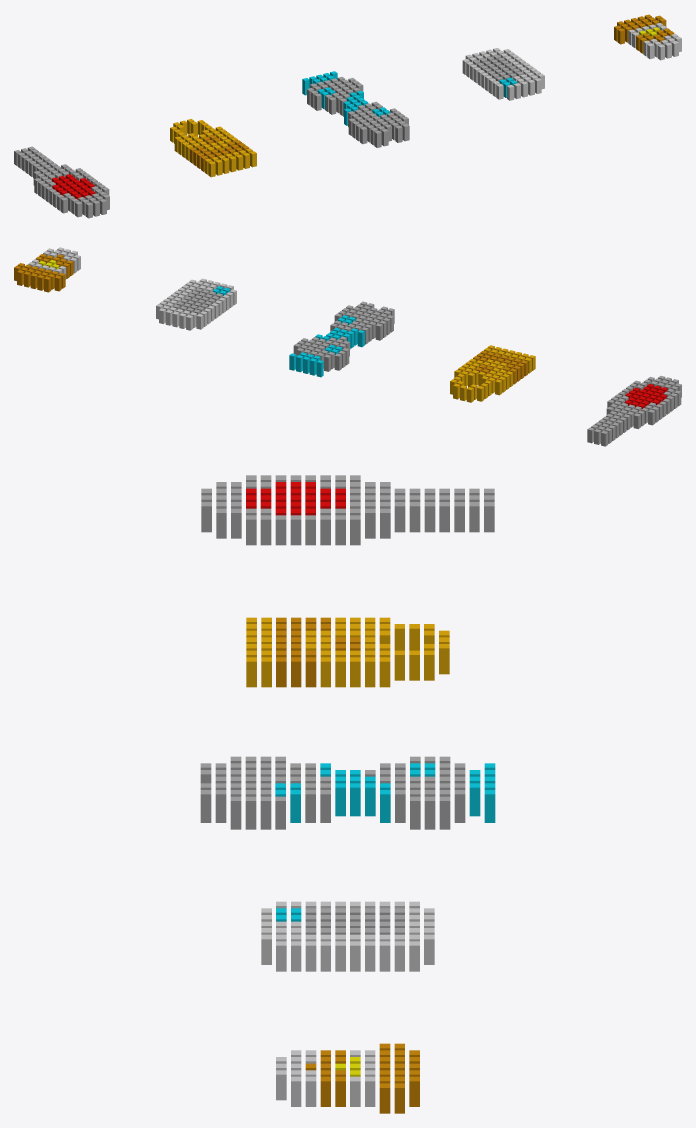
The model's file is RubbishMeshGroup.fbx.
3 renders of one model, top to bottom at view 1: azimuth 30°, elevation 25°; view 2: azimuth 150°, elevation 25°; view 3: azimuth 270°, elevation 25°, orthographic. The views are drawn at different scales.
Parts seen in each view (by area): view 1: WaterBottleMesh, GlassBottleMesh, PaperBagMesh, ContainerMesh, CoffeeCupMesh; view 2: WaterBottleMesh, GlassBottleMesh, PaperBagMesh, ContainerMesh, CoffeeCupMesh; view 3: WaterBottleMesh, GlassBottleMesh, PaperBagMesh, ContainerMesh, CoffeeCupMesh.
Boxes of the visible parts, bbox=[...] form: WaterBottleMesh: bbox=[302, 71, 409, 147]; GlassBottleMesh: bbox=[14, 146, 109, 218]; PaperBagMesh: bbox=[170, 119, 256, 177]; ContainerMesh: bbox=[462, 48, 544, 100]; CoffeeCupMesh: bbox=[614, 14, 681, 60]; WaterBottleMesh: bbox=[289, 301, 394, 377]; GlassBottleMesh: bbox=[587, 376, 681, 446]; PaperBagMesh: bbox=[450, 345, 535, 402]; ContainerMesh: bbox=[156, 278, 236, 330]; CoffeeCupMesh: bbox=[14, 247, 80, 292]; WaterBottleMesh: bbox=[200, 756, 495, 829]; GlassBottleMesh: bbox=[201, 475, 494, 545]; PaperBagMesh: bbox=[246, 617, 449, 687]; ContainerMesh: bbox=[261, 901, 434, 971]; CoffeeCupMesh: bbox=[276, 1043, 419, 1113].
Bounding box in the file's own units: 431 × 9.4 × 87.57.
